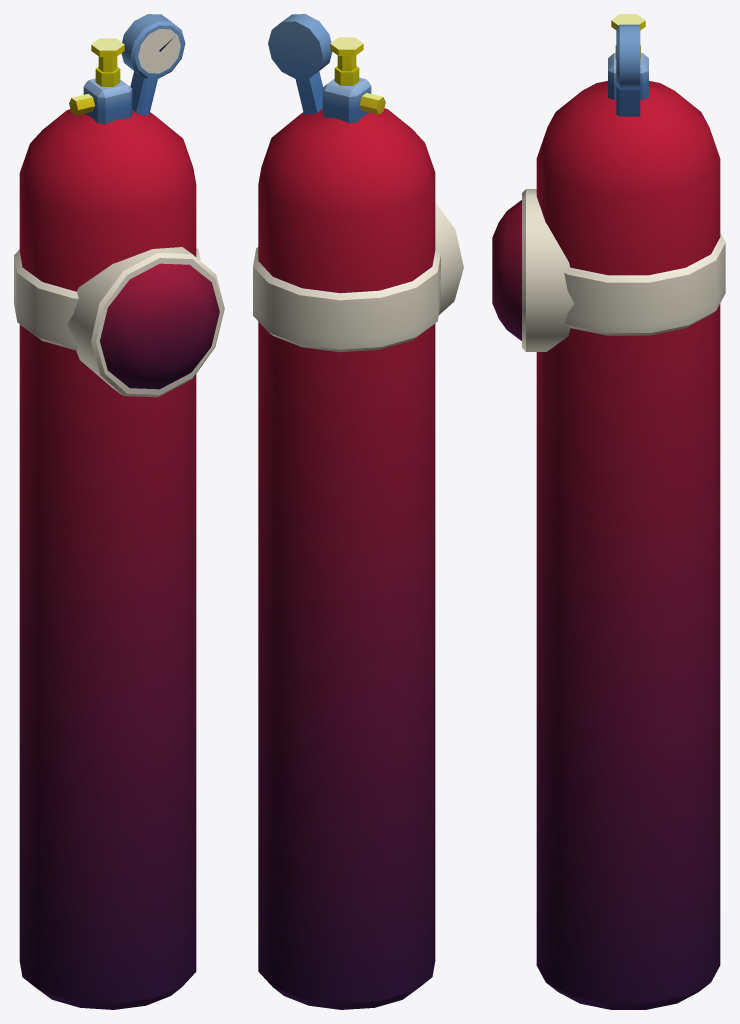
File: SM_Gas_Cylinder_3.fbx
The picture shows the model from 3 angles, left to right: view 1: azimuth 30°, elevation 25°; view 2: azimuth 150°, elevation 25°; view 3: azimuth 270°, elevation 25°; orthographic projection. The views are drawn at different scales.
Parts seen in each view (by area): view 1: Circle.014; view 2: Circle.014; view 3: Circle.014.
Part boxes in pixels (x1,y1,x2,y2): Circle.014: (14,14,224,1009); Circle.014: (253,14,463,1009); Circle.014: (492,14,725,1009).
Size of the model in its own units: 26.02 by 147 by 32.03.
